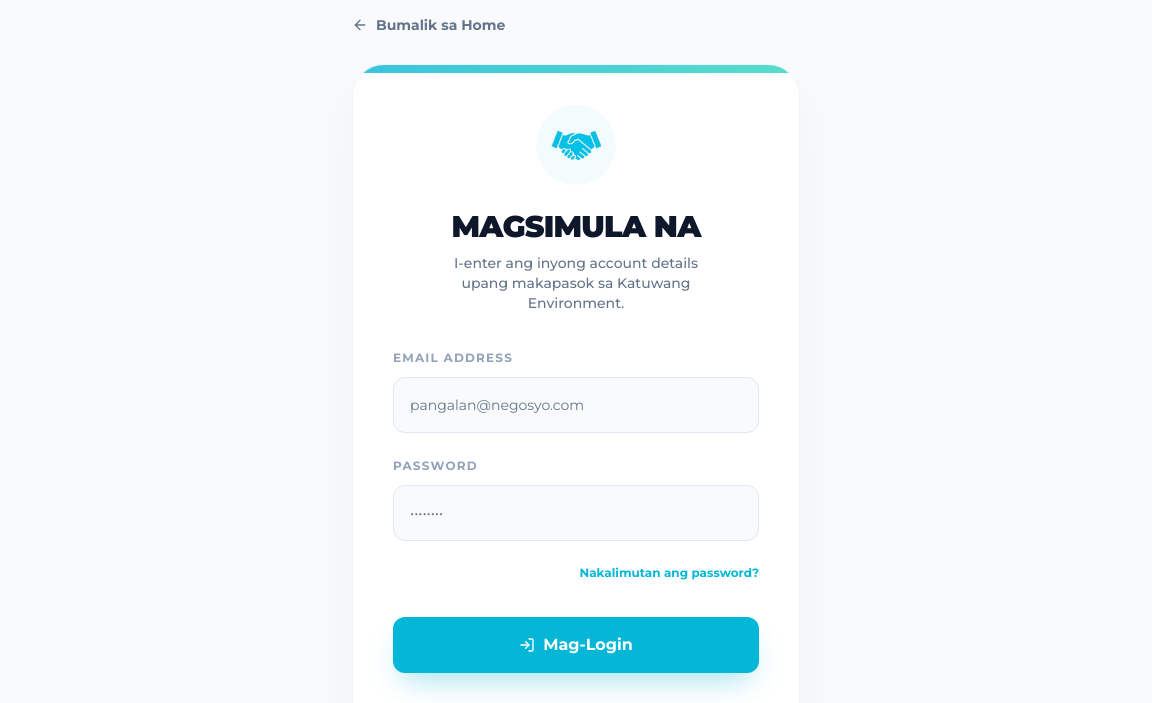
Scenario: Staff Access Security Phase 1 — UI regression only › keeps the Cashier PIN input numeric and requires four digits
In the field named "email": (576, 405) [393,377,759,433], type "owner@example.com"
Clear the field named "email": (576, 405) [393,377,759,433]
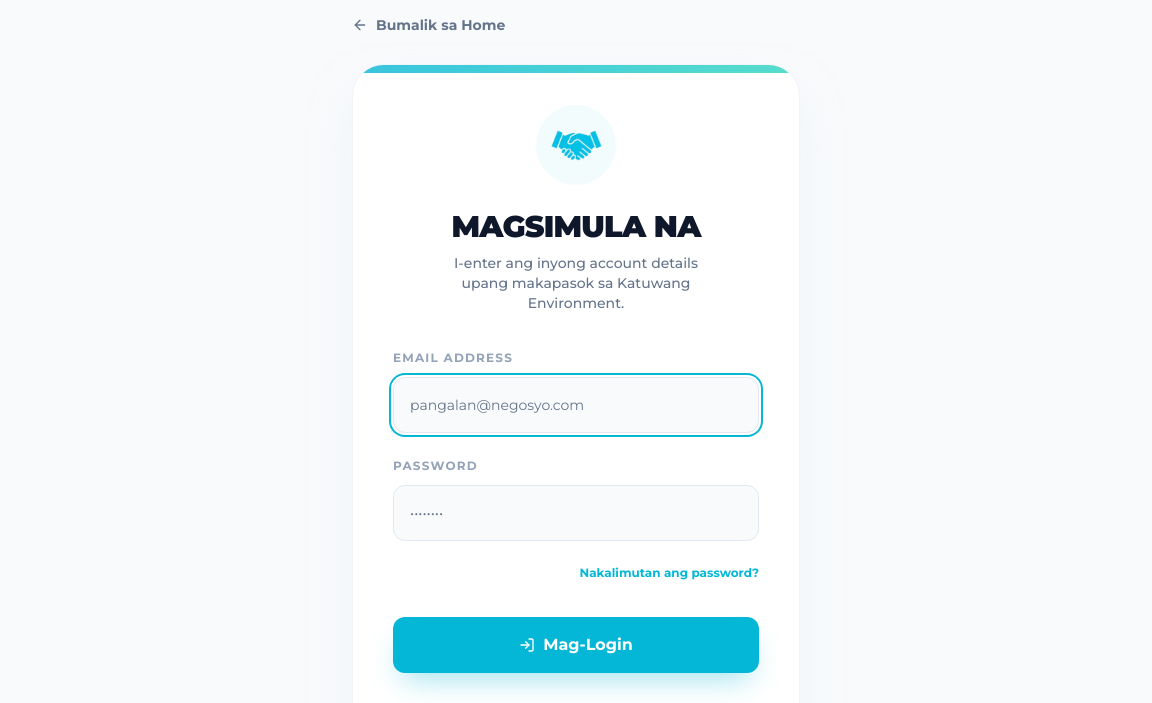
Scroll
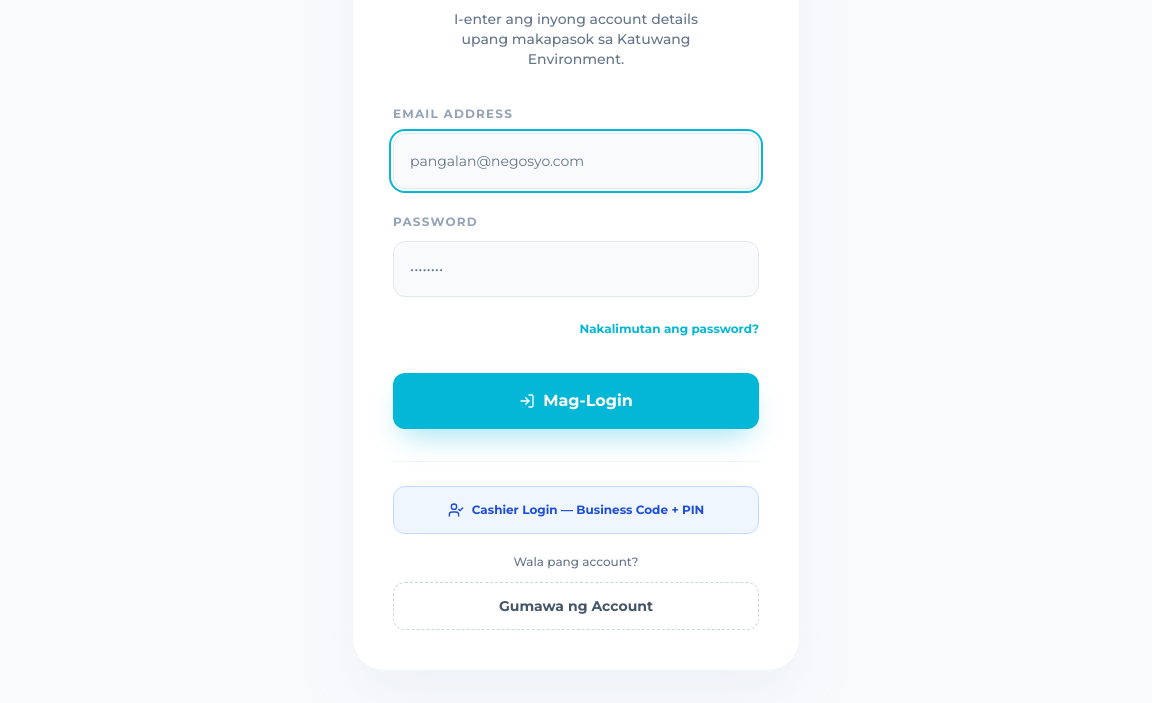
Click the button with test id "cashier-login-toggle-btn": (576, 510) [393,486,759,534]
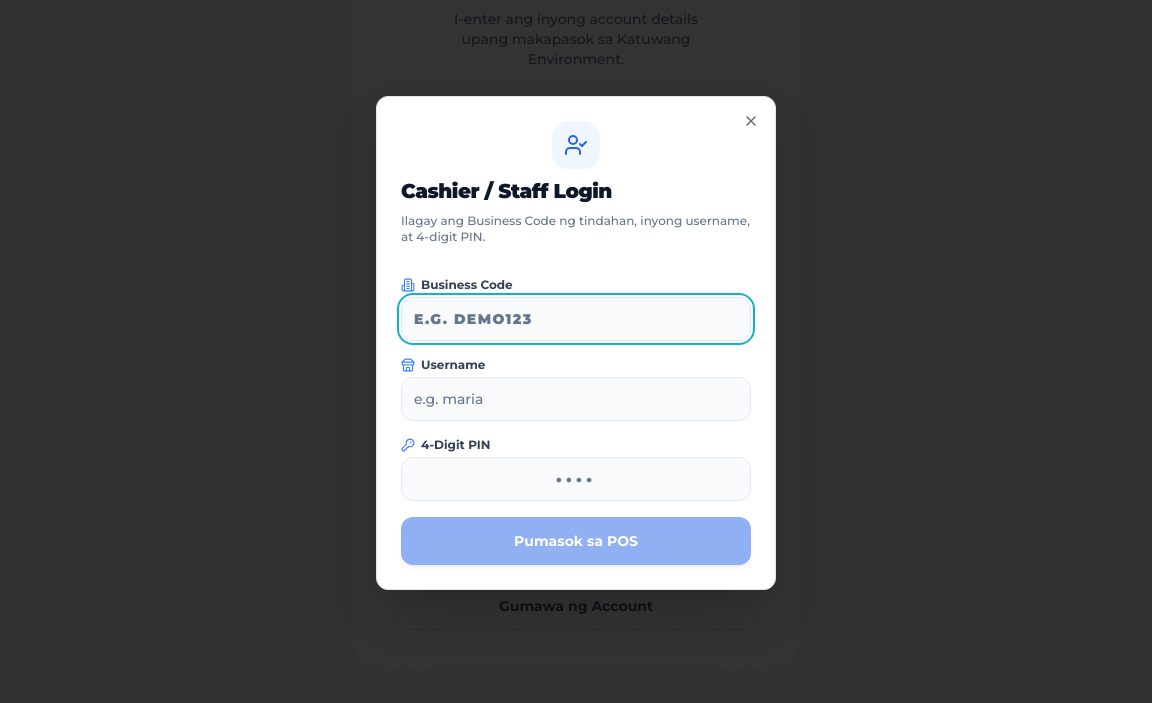
Now the field with id "staff-biz-code" is shown
In the field with id "staff-biz-code": (576, 319) [401,297,751,341], type "demo123"
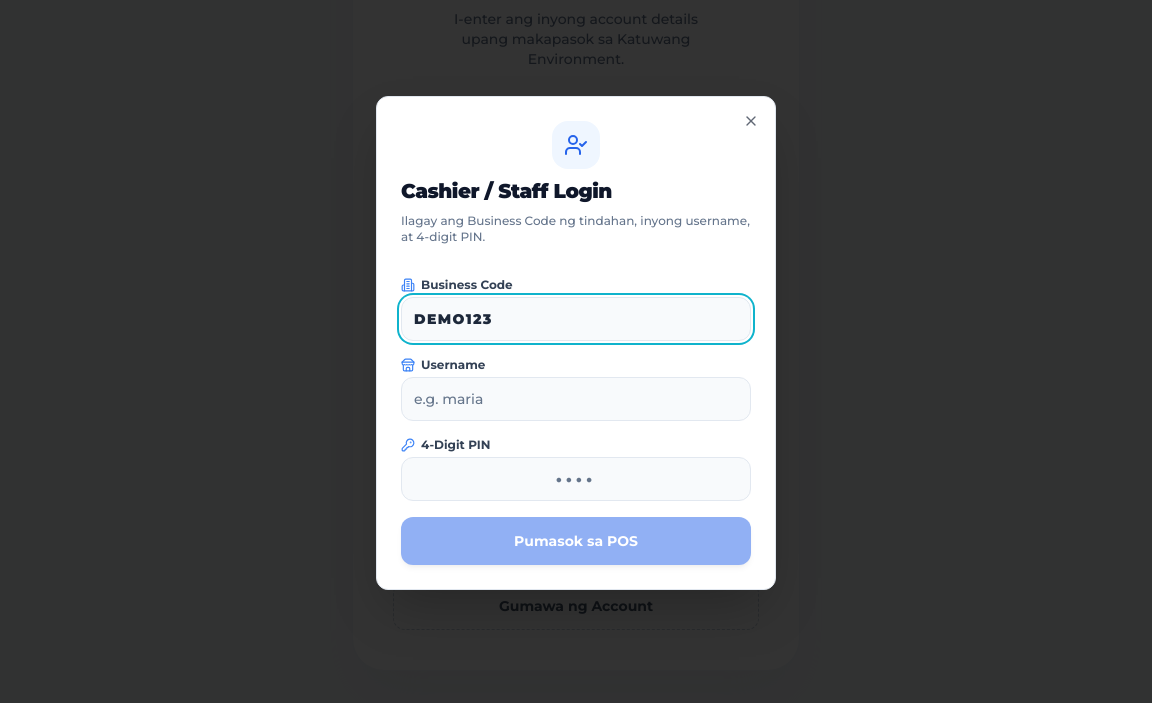
In the field with id "staff-username": (576, 399) [401,377,751,421], type "cashier"
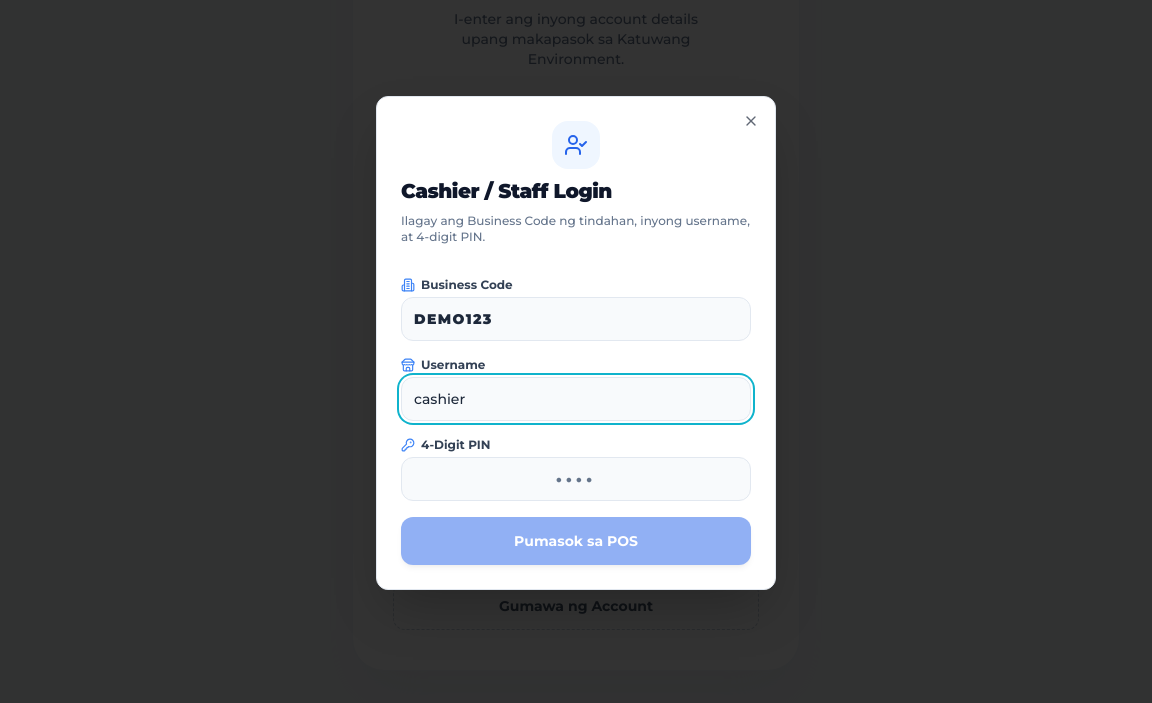
In the password field with id "staff-pin": (576, 479) [401,457,751,501], type "1a2b34"
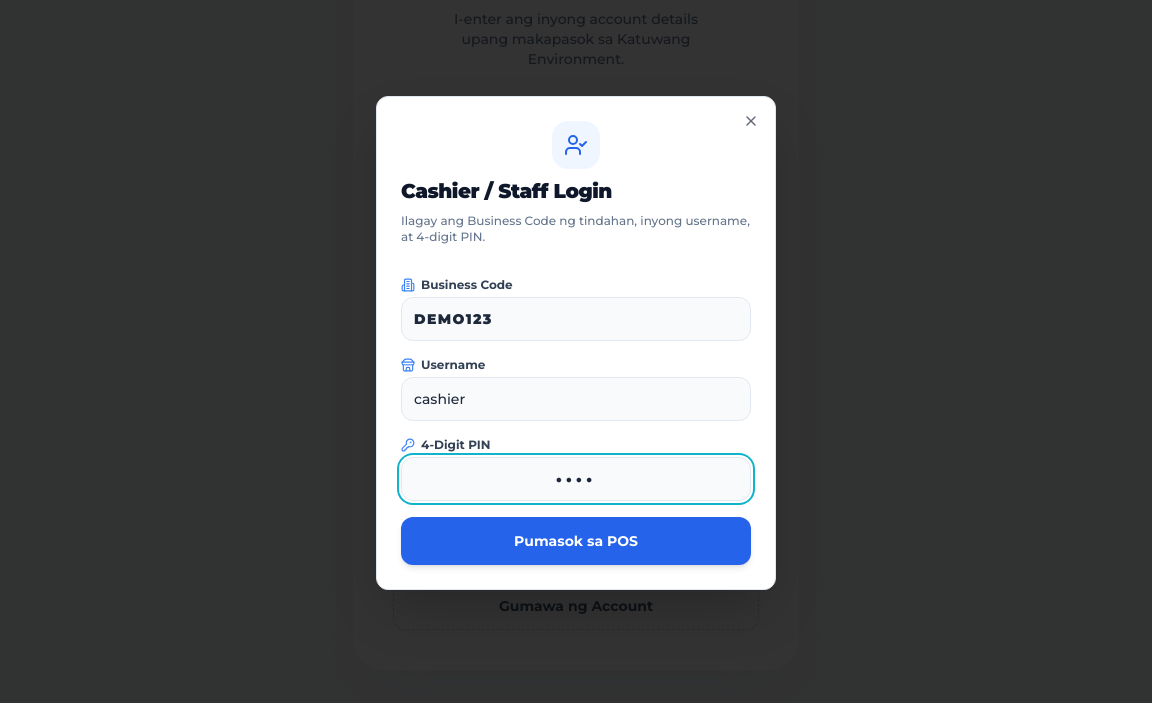
Expected: the text "Pumasok sa POS" is enabled
Now the password field with id "staff-pin" holds "1234", box [401,457,751,501]
